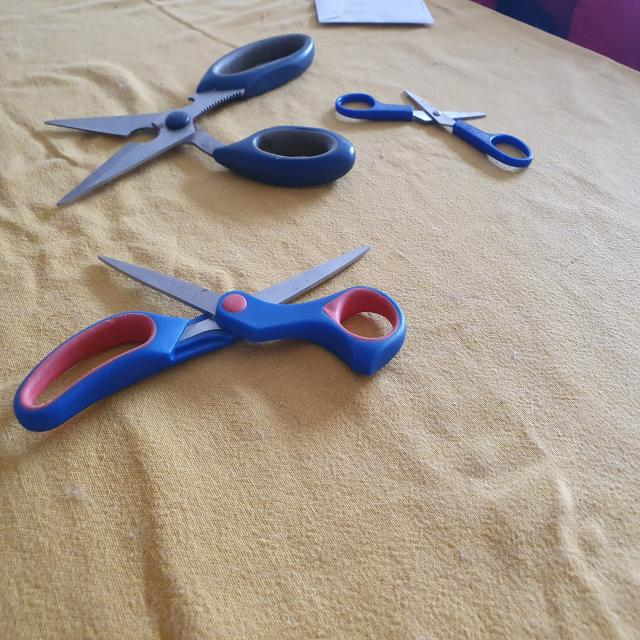scissors: (13, 244, 410, 432), (44, 28, 356, 216), (335, 85, 537, 176)
